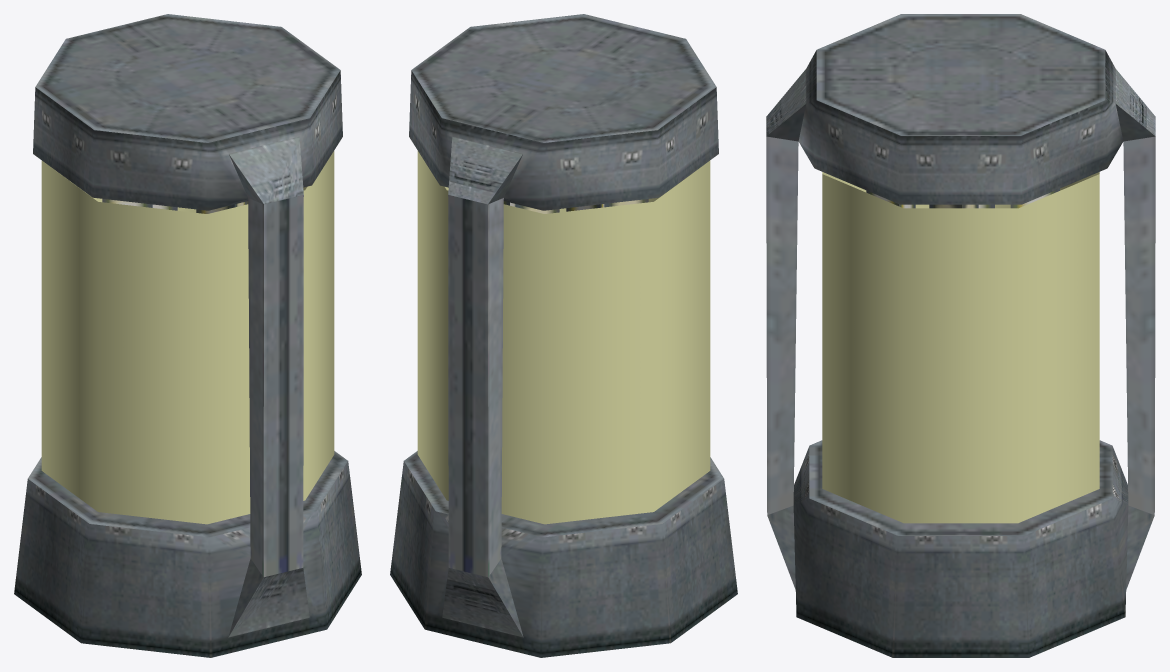
File: frn_all_glow_lantern_s2_l1.fbx
3 renders of one model, left to right at view 1: azimuth 30°, elevation 25°; view 2: azimuth 150°, elevation 25°; view 3: azimuth 270°, elevation 25°, orthographic.
Visible parts, largest first — view 1: mesh_node; view 2: mesh_node; view 3: mesh_node.
Boxes of the visible parts, x1,y1,x2,y2 form: mesh_node: [14, 14, 361, 657]; mesh_node: [390, 14, 737, 657]; mesh_node: [766, 14, 1155, 657].
Bounding box in the file's own units: 0.2719 × 0.4682 × 0.3219.
